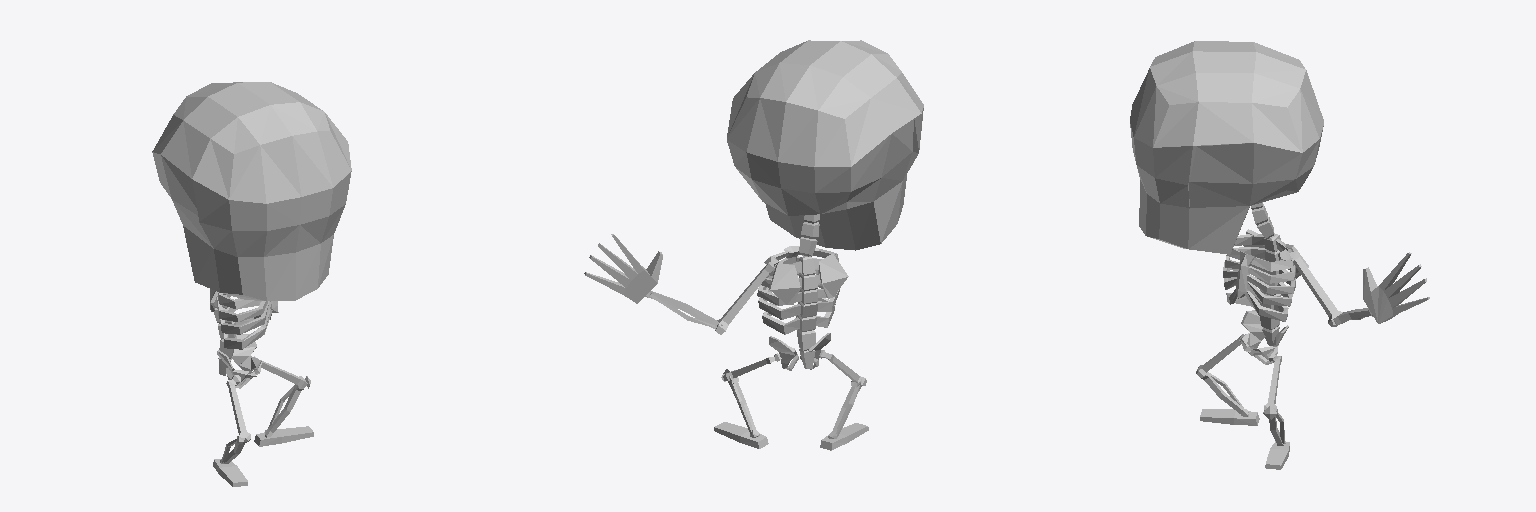
Rendered from skeleboy_body.obj.
The picture shows the model from 3 angles: view 1: azimuth 30°, elevation 25°; view 2: azimuth 150°, elevation 25°; view 3: azimuth 270°, elevation 25°; orthographic projection.
Parts seen in each view (by area): view 1: body; view 2: body; view 3: body.
Boxes of the visible parts, x1=… form: body: x1=152, y1=82, x2=351, y2=486; body: x1=584, y1=40, x2=923, y2=450; body: x1=1130, y1=41, x2=1429, y2=469.
Size of the model in its own units: 1.83 by 3.03 by 2.17.